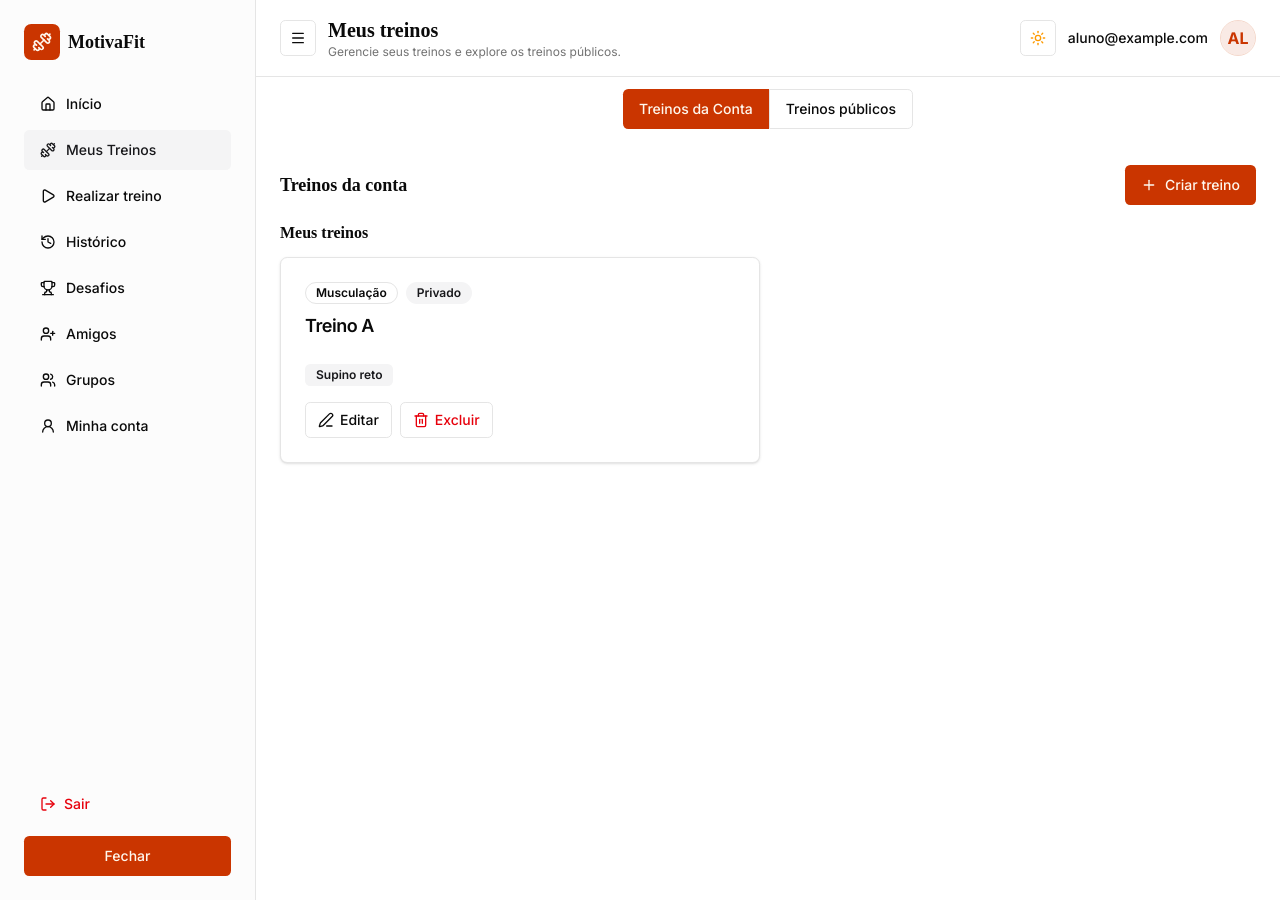
it: catálogo e treinos › separa treino próprio de público e suas ações
The image size is (1280, 900).
Expected: the heading "Treino A" is shown, [305,315,374,336]
Expected: the button "Editar" is shown, [305,402,392,438]
Click the button "Treinos públicos" at (841, 109), box [769,89,913,129]
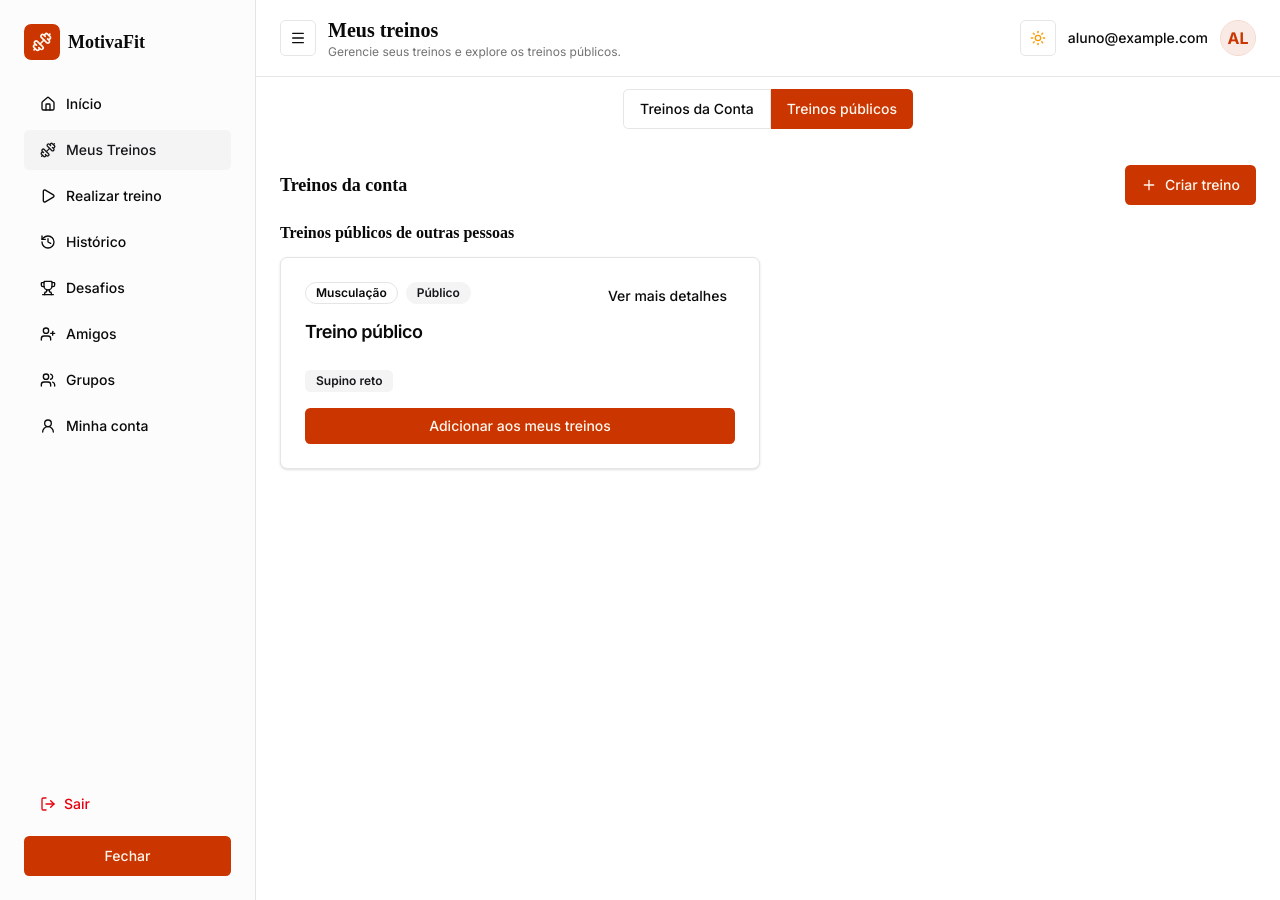
Expected: the heading "Treino público" is shown, [305,321,422,342]
Expected: the button "Editar" is gone
Expected: the button "Adicionar aos meus treinos" is shown, [305,408,735,444]
Click the link "Realizar treino" at (101, 196), box [40,187,162,204]
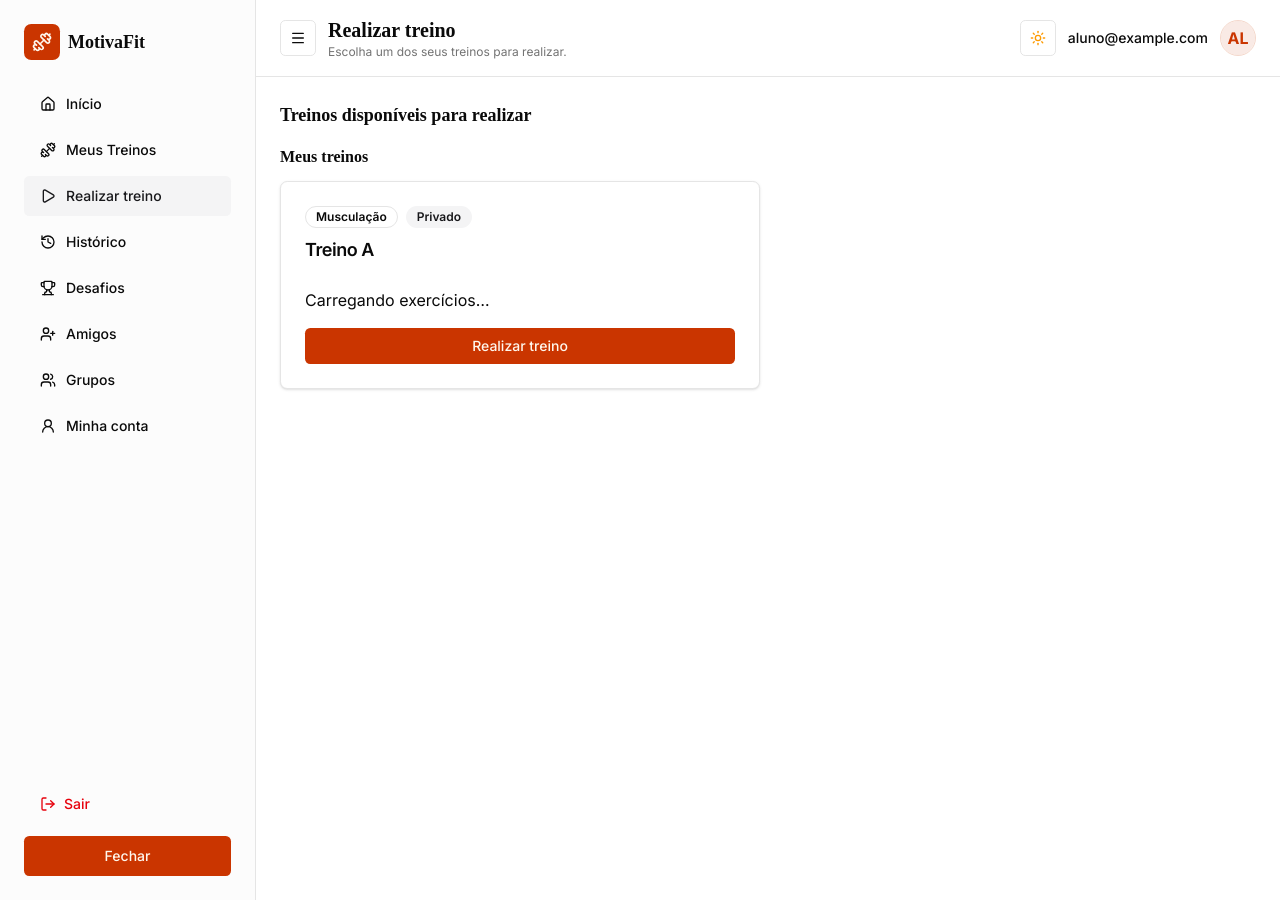
Expected: the heading "Meus treinos" is shown, [280,148,368,165]
Expected: the heading "Treinos públicos de outras pessoas" is gone
Expected: the button "Criar treino" is gone
Click the link "Meus Treinos" at (98, 150), box [40,141,156,158]
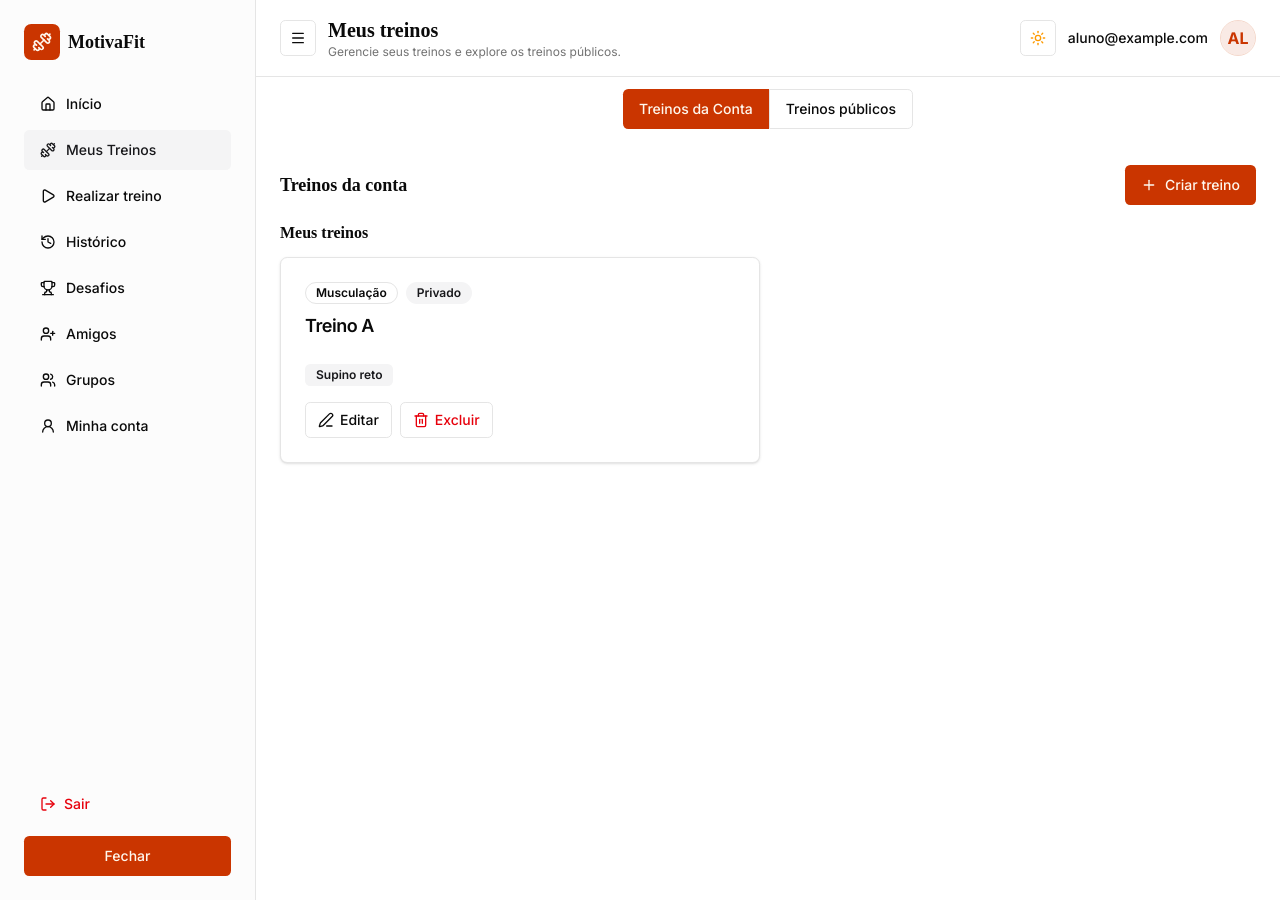
Expected: the link "Meus Treinos" is shown, [24,130,231,170]
Expected: the button "Editar" is shown, [305,402,392,438]
